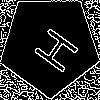H: (25, 20, 81, 75)
